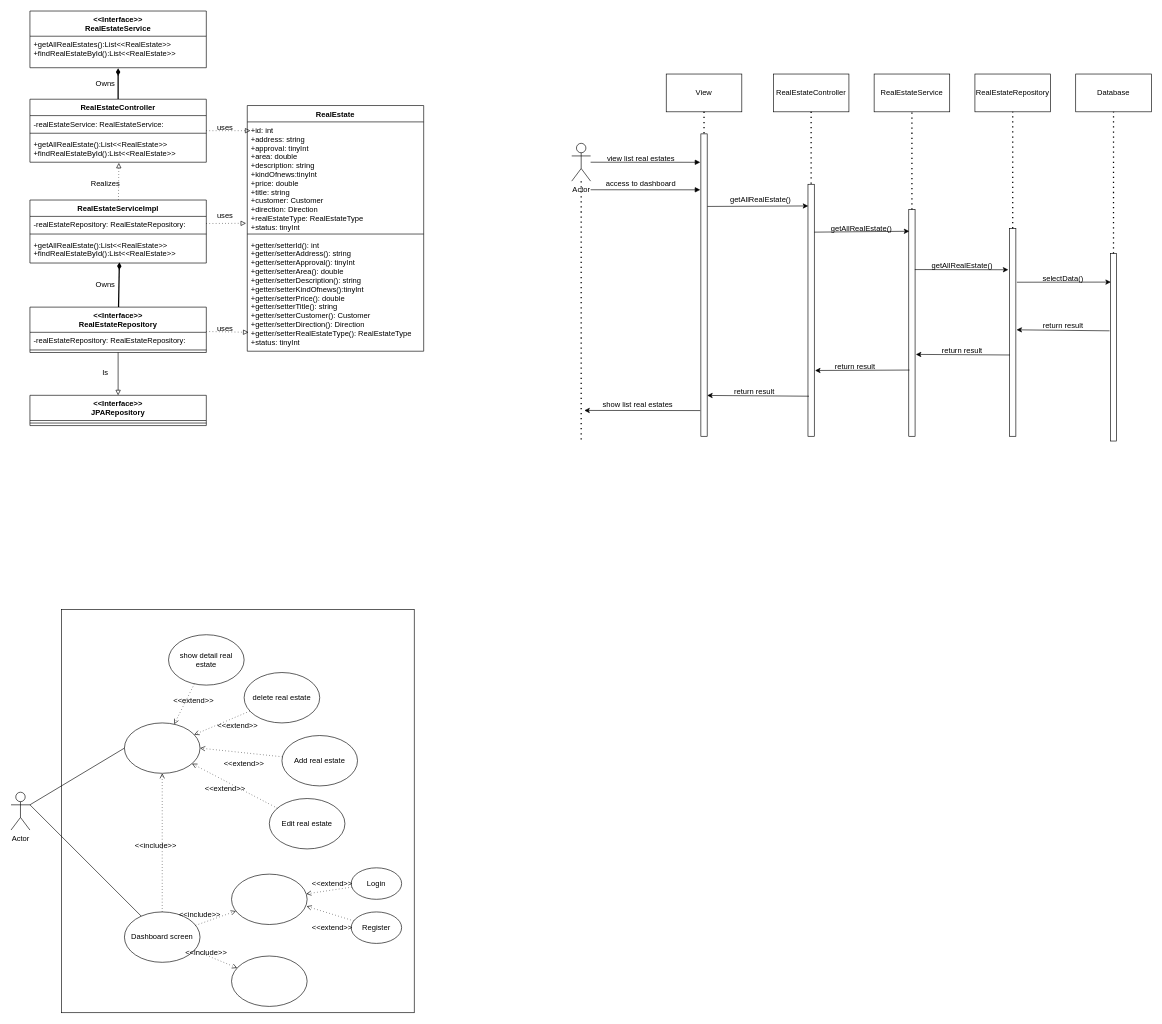
This 1162x1024 diagram has some shape labels left out. The centre of each missing label's shape, as x and y in pixels:
Footer: the point at 269,980
Header: the point at 269,899
View list real estate: the point at 162,747
